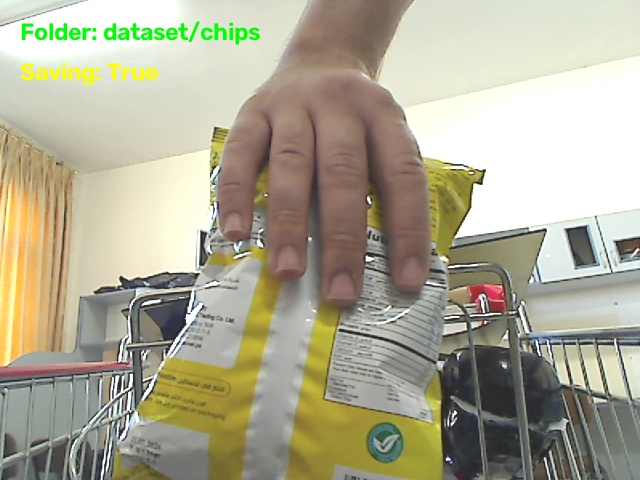chips: (113, 159, 483, 479)
